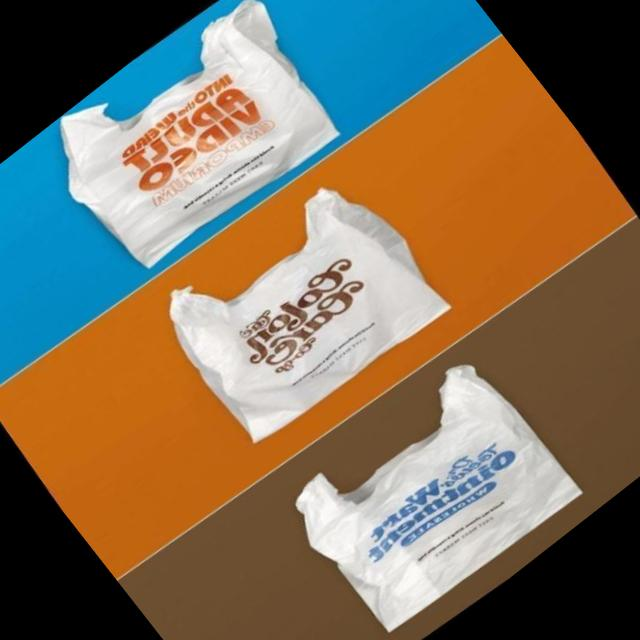KantongPlastik: (274, 346, 596, 640), (146, 157, 458, 457), (56, 0, 357, 276)
